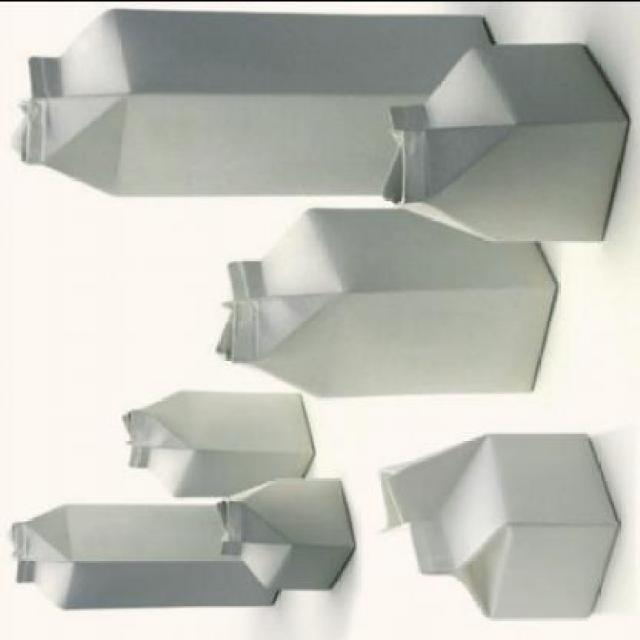non_white_jug: (3, 2, 495, 206), (180, 190, 574, 398), (363, 25, 634, 247), (364, 416, 622, 624), (0, 492, 297, 617), (107, 376, 316, 502), (196, 456, 367, 598)
